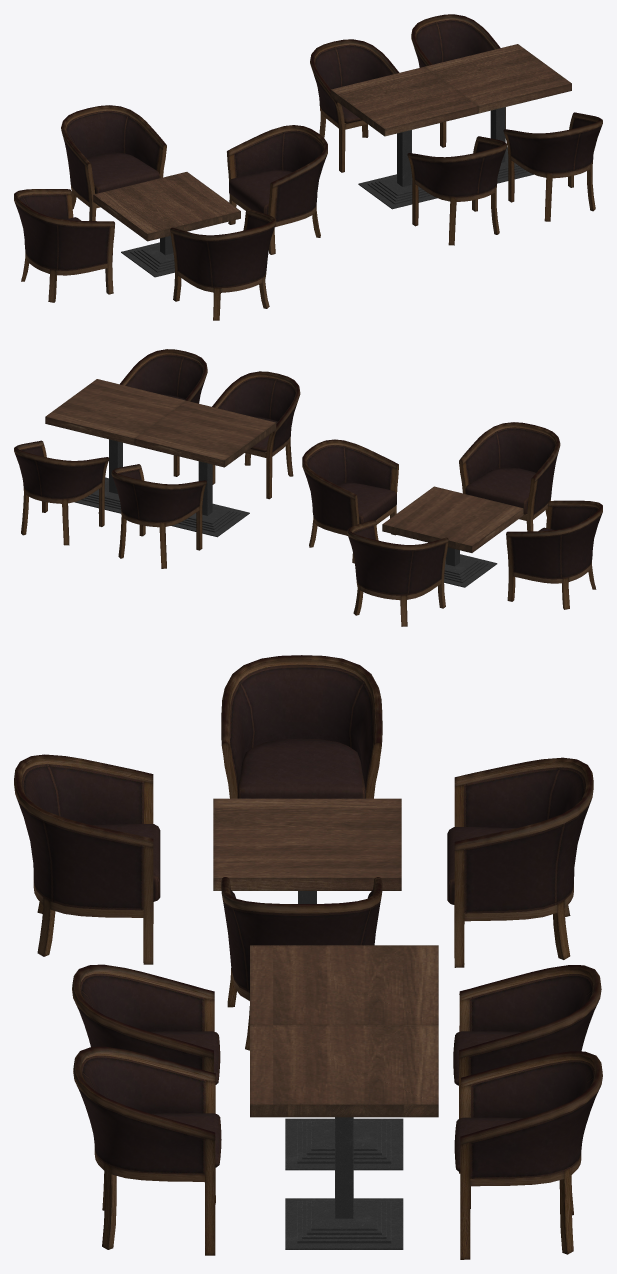
The model's file is Unity2Skfb.gltf.
The picture shows the model from 3 angles, top to bottom: view 1: azimuth 30°, elevation 25°; view 2: azimuth 150°, elevation 25°; view 3: azimuth 270°, elevation 25°; orthographic projection. The views are drawn at different scales.
Visible parts, largest first — view 1: re_tb_01, re_arm (3), re_arm (1), re_tb_02, re_arm (2), re_tb_01 (1), re_arm, re_chair (3), re_chair, re_chair (2), re_chair (1); view 2: re_tb_01, re_arm, re_arm (3), re_tb_02, re_tb_01 (1), re_arm (2), re_arm (1), re_chair (2), re_chair (1), re_chair, re_chair (3); view 3: re_tb_01 (1), re_arm (2), re_arm, re_arm (1), re_tb_01, re_chair (3), re_chair (1), re_tb_02, re_chair (2), re_chair, re_arm (3).
Part boxes in pixels (bbox=[...]): re_tb_01: bbox=[330, 67, 478, 209]; re_arm (3): bbox=[227, 125, 327, 254]; re_arm (1): bbox=[61, 105, 166, 220]; re_tb_02: bbox=[93, 172, 240, 277]; re_arm (2): bbox=[14, 189, 114, 302]; re_tb_01 (1): bbox=[424, 44, 571, 183]; re_arm: bbox=[170, 209, 276, 320]; re_chair (3): bbox=[503, 112, 602, 221]; re_chair: bbox=[407, 136, 506, 245]; re_chair (2): bbox=[310, 39, 399, 172]; re_chair (1): bbox=[411, 14, 505, 147]; re_tb_01: bbox=[135, 401, 276, 537]; re_arm: bbox=[459, 422, 560, 531]; re_arm (3): bbox=[302, 439, 398, 563]; re_tb_02: bbox=[382, 486, 523, 587]; re_tb_01 (1): bbox=[45, 379, 186, 513]; re_arm (2): bbox=[506, 500, 602, 609]; re_arm (1): bbox=[347, 520, 448, 626]; re_chair (2): bbox=[111, 464, 206, 568]; re_chair (1): bbox=[14, 440, 109, 545]; re_chair: bbox=[212, 371, 300, 499]; re_chair (3): bbox=[120, 349, 207, 476]; re_tb_01 (1): bbox=[250, 1025, 438, 1249]; re_arm (2): bbox=[221, 655, 382, 798]; re_arm: bbox=[14, 754, 160, 964]; re_arm (1): bbox=[447, 757, 593, 967]; re_tb_01: bbox=[250, 945, 438, 1170]; re_chair (3): bbox=[73, 1046, 221, 1255]; re_chair (1): bbox=[454, 1051, 602, 1259]; re_tb_02: bbox=[213, 798, 401, 903]; re_chair (2): bbox=[453, 965, 601, 1173]; re_chair: bbox=[72, 964, 220, 1084]; re_arm (3): bbox=[221, 877, 382, 1050].
Size of the model in its own units: 4.56 by 0.7702 by 2.5.
4 materials, 4 textured.
